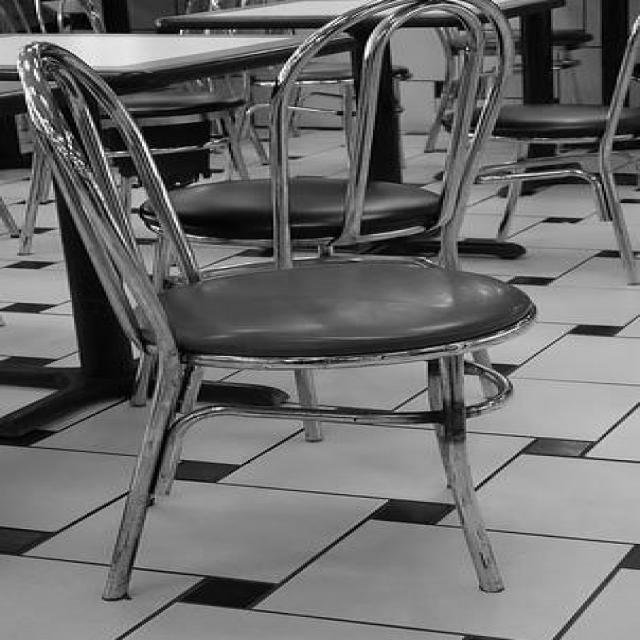chair: (21, 41, 523, 598), (130, 0, 544, 440), (427, 0, 639, 279)
